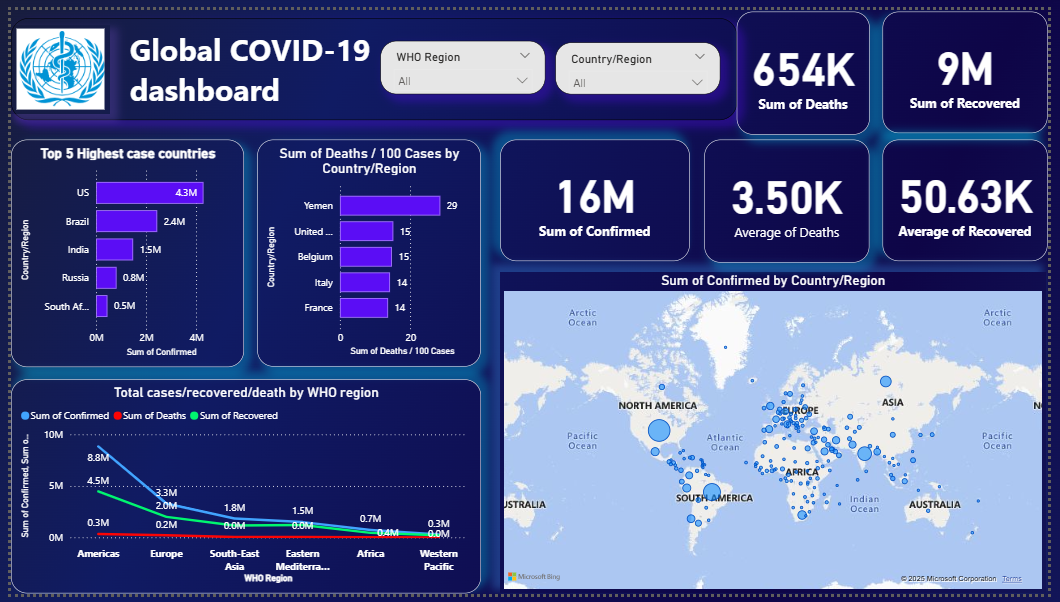

This screenshot's page, from the dashboard's own definition file:
{"tool":"powerbi","page":{"name":"Page 1","canvas":[1280,720],"ordinal":0},"visuals":[{"type":"textbox","box":[0,10,896,126],"z":0},{"type":"image","box":[0,18,122,110],"z":1000},{"type":"card","fields":{"Values":["Sum(country_wise_latest.Confirmed)"]},"box":[604,160,234,150],"z":2000},{"type":"card","fields":{"Values":["Sum(country_wise_latest.Deaths)"]},"box":[896,2,164,152],"z":3000},{"type":"card","fields":{"Values":["Sum(country_wise_latest.Recovered)"]},"box":[1076,2,204,150],"z":4000},{"type":"card","fields":{"Values":["Avg(country_wise_latest.Recovered)"]},"box":[1076,160,204,150],"z":5000},{"type":"card","fields":{"Values":["Avg(country_wise_latest.Deaths)"]},"box":[856,160,204,152],"z":6000},{"type":"barChart","title":"Top 5 Highest case countries","fields":{"Category":["country_wise_latest.Country/Region"],"Y":["Sum(country_wise_latest.Confirmed)"]},"box":[0,160.3,287.9,280.6],"z":7000},{"type":"barChart","fields":{"Category":["country_wise_latest.Country/Region"],"Y":["Sum(country_wise_latest.Deaths / 100 Cases)"]},"box":[304,160,276,280],"z":8000},{"type":"map","fields":{"Category":["country_wise_latest.Country/Region"],"Size":["Sum(country_wise_latest.Confirmed)"]},"box":[604.9,324.3,674.2,395.4],"z":9000},{"type":"slicer","fields":{"Values":["country_wise_latest.WHO Region"]},"box":[456,38,204,66],"z":10000},{"type":"slicer","fields":{"Values":["country_wise_latest.Country/Region"]},"box":[672,40,204,64],"z":11000},{"type":"lineChart","title":"Total cases/recovered/death by WHO region","fields":{"Category":["country_wise_latest.WHO Region"],"Y":["Sum(country_wise_latest.Confirmed)","Sum(country_wise_latest.Deaths)","Sum(country_wise_latest.Recovered)"]},"box":[0,456,580,264],"z":12000}]}

Visuals, with their boxes in screenshot pixels (x1, y1, x2, y2), scaled from the page's 1280x720 canvas onto the 1060x602 screenshot:
textbox: select_region(0, 8, 742, 114)
image: select_region(0, 15, 101, 107)
card - Sum(country_wise_latest.Confirmed): select_region(500, 134, 694, 259)
card - Sum(country_wise_latest.Deaths): select_region(742, 2, 878, 129)
card - Sum(country_wise_latest.Recovered): select_region(891, 2, 1059, 127)
card - Avg(country_wise_latest.Recovered): select_region(891, 134, 1059, 259)
card - Avg(country_wise_latest.Deaths): select_region(709, 134, 878, 261)
"Top 5 Highest case countries" barChart: select_region(0, 134, 238, 369)
barChart - country_wise_latest.Country/Region x Sum(country_wise_latest.Deaths / 100 Cases): select_region(252, 134, 480, 368)
map - country_wise_latest.Country/Region x Sum(country_wise_latest.Confirmed): select_region(501, 271, 1059, 601)
slicer - country_wise_latest.WHO Region: select_region(378, 32, 547, 87)
slicer - country_wise_latest.Country/Region: select_region(556, 33, 725, 87)
"Total cases/recovered/death by WHO region" lineChart: select_region(0, 381, 480, 601)
